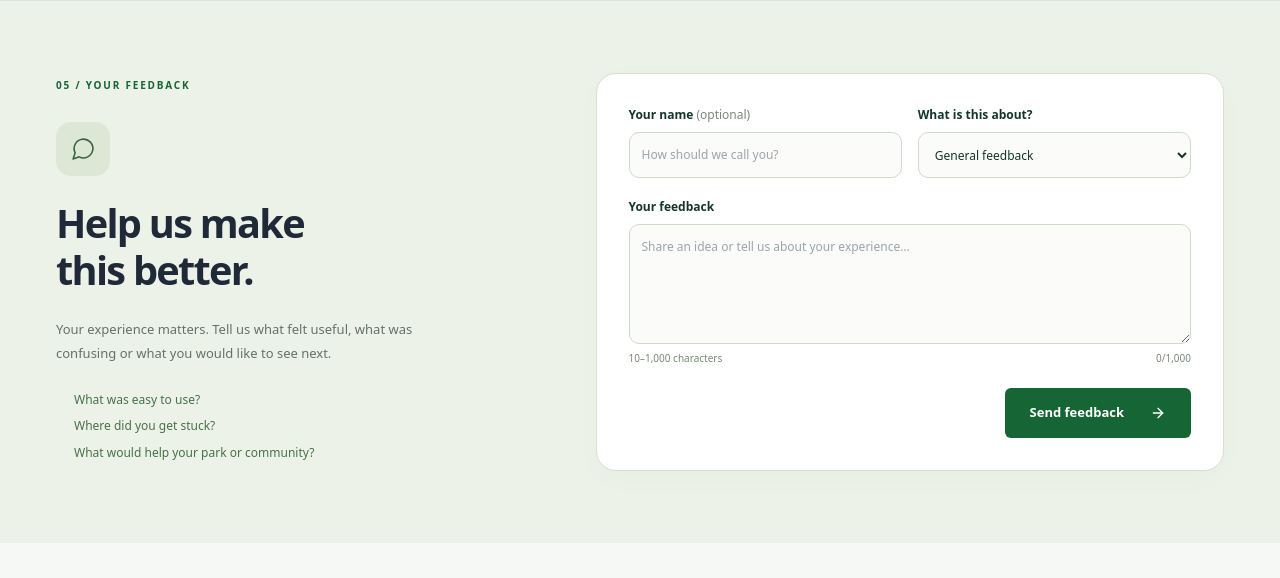
Test: frontend-only landing feedback › saves valid feedback locally and clearly states it was not sent
Step 1. Type "  Visitor  " into the field labelled "Your name (optional)" → (765, 155), box [628, 132, 902, 178]
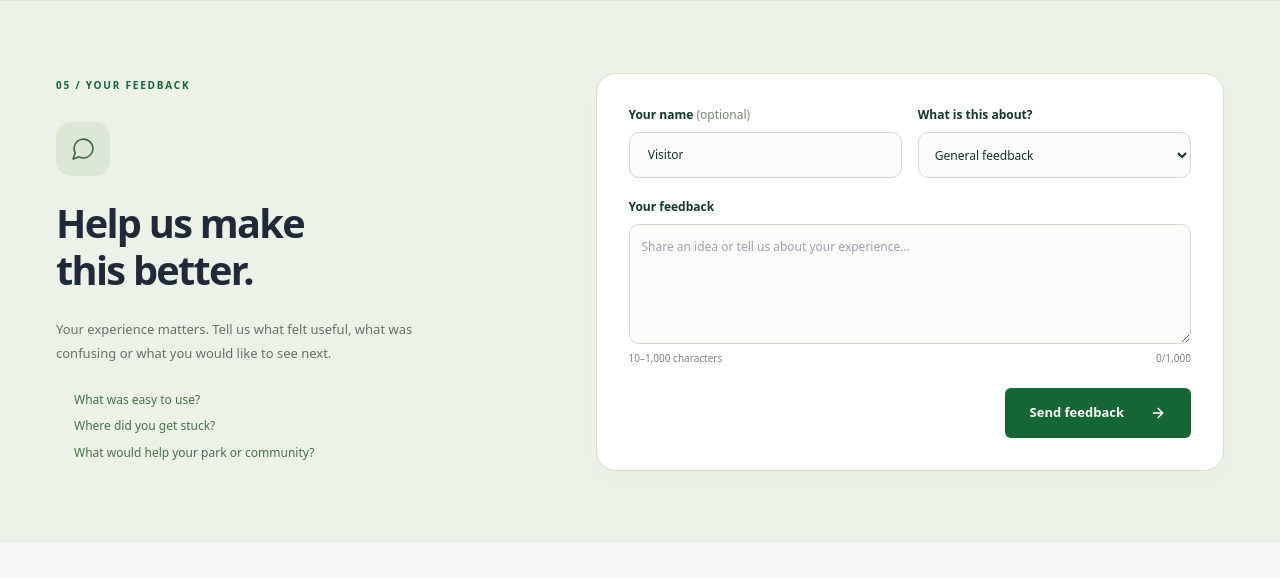
Step 2. Type "  The field stories are easy to explore.  " into the text box labelled "Your feedback" → (910, 284), box [628, 224, 1191, 344]
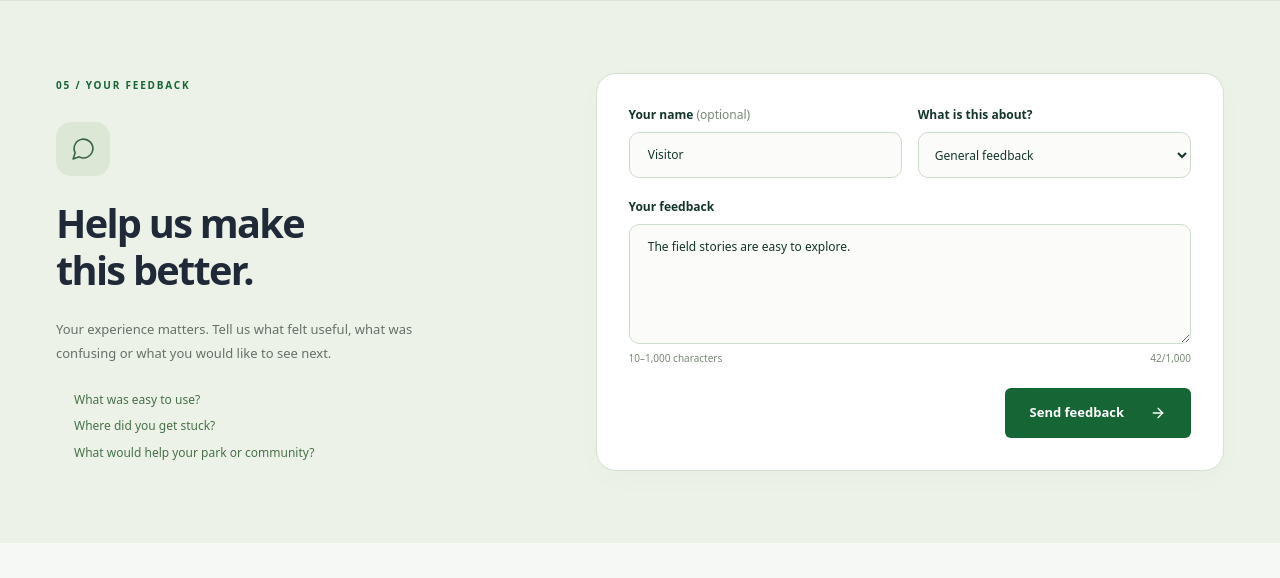
Step 3. Submit the form named "Website feedback", box [628, 106, 1191, 438]
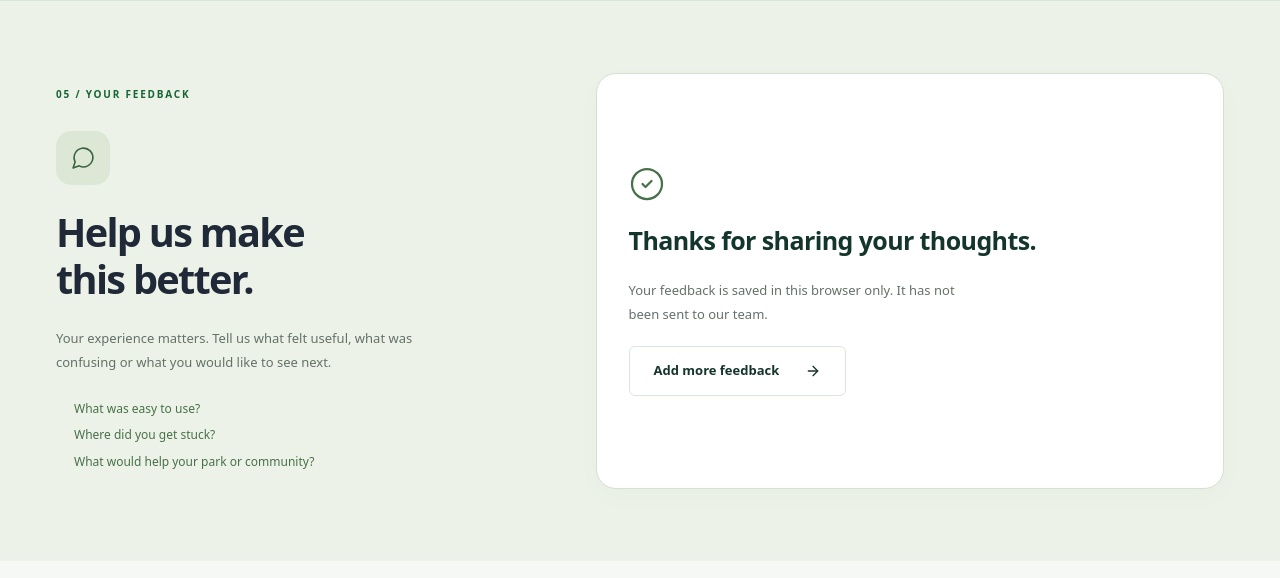
Check: the message shows "It has not been sent to our team", box [628, 281, 955, 323]
